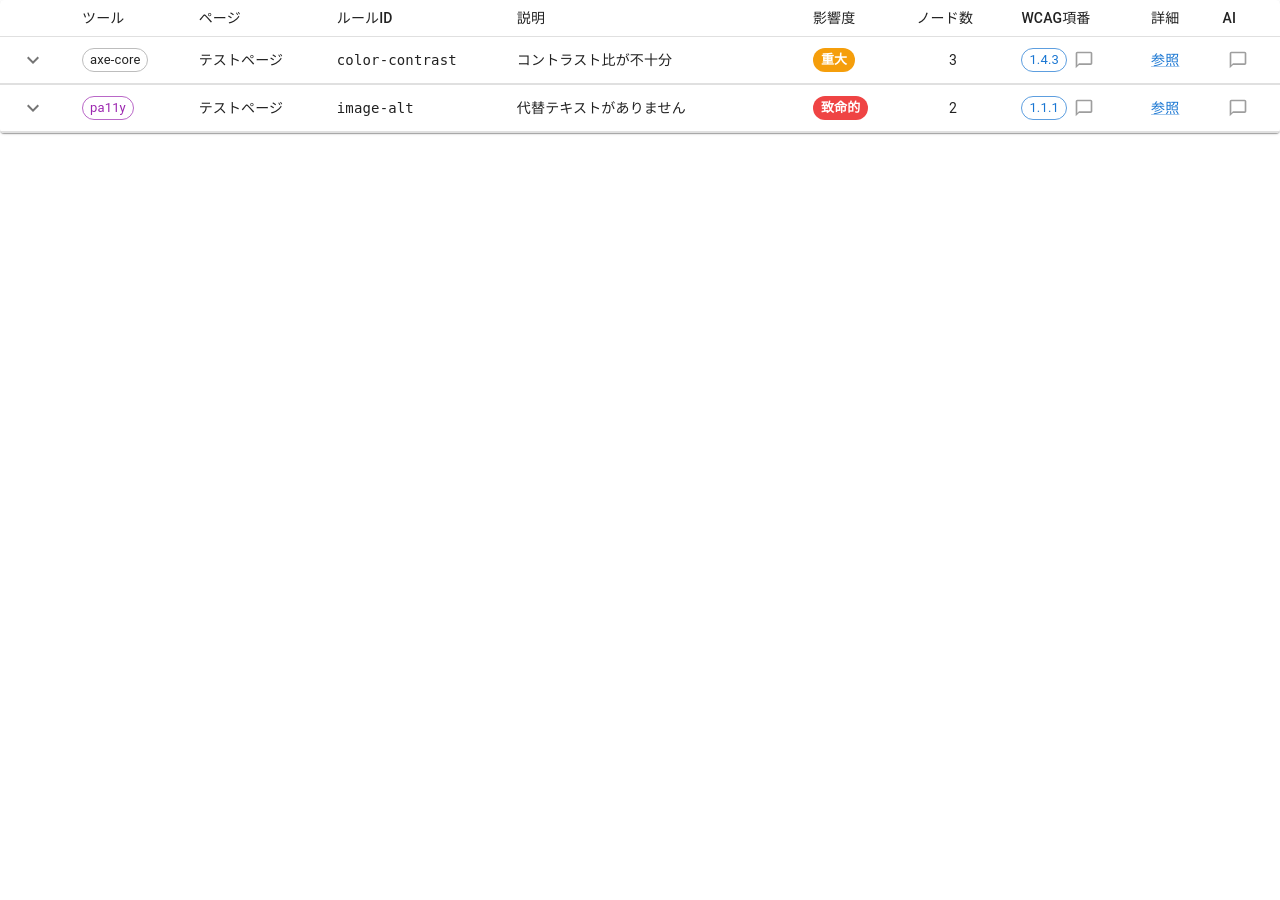
フロントエンド統合テスト (Task 12.2) › 違反テーブル行展開でノード表示 (Req 1.1) › 行展開ボタンをクリックするとNodeDetailsが表示される
This screenshot has width=1280, height=900.
Expected: the text "<p class=\"low-contrast\" style=\"color: #777\">テスト</p>" is not shown
展開ボタンをクリック
Click the button named "ノード情報を展開" next to "axe-core" at (33, 60), box [16, 43, 50, 77]
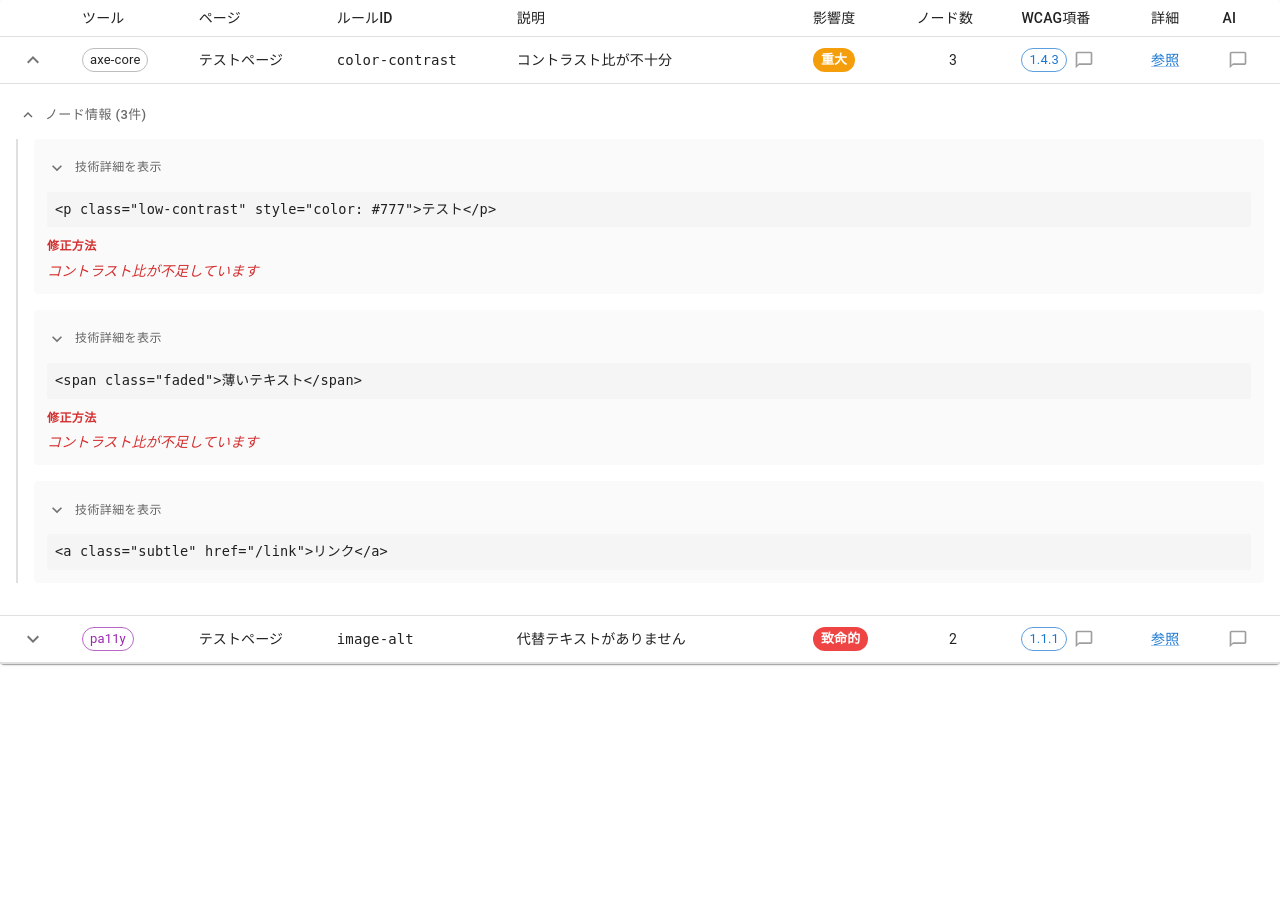
Expected: the text "<p class=\"low-contrast\" style=\"color: #777\">テスト</p>" is shown, [47, 192, 1251, 227]
